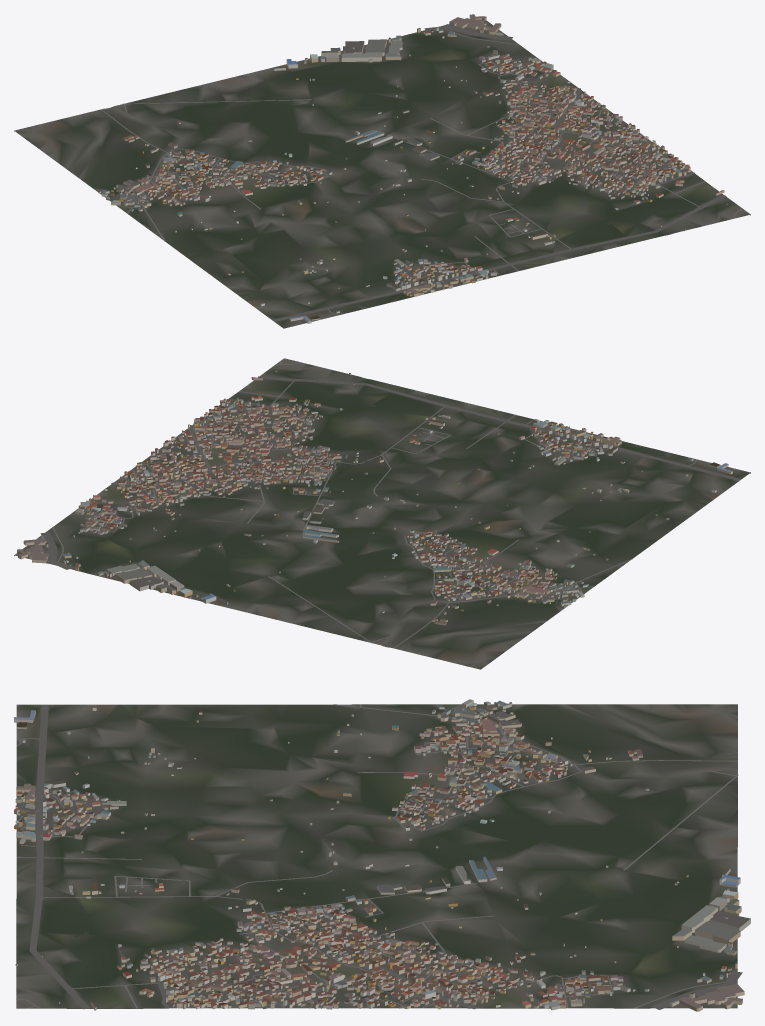
The picture shows the model from 3 angles, top to bottom: view 1: azimuth 30°, elevation 25°; view 2: azimuth 150°, elevation 25°; view 3: azimuth 270°, elevation 25°; orthographic projection. The views are drawn at different scales.
Visible parts, largest first — view 1: ground, buildings, roads; view 2: ground, buildings, roads; view 3: ground, buildings, roads.
Part boxes in pixels (x1,y1,x2,y2): ground: (14, 20, 750, 328); buildings: (98, 14, 727, 323); roads: (101, 24, 745, 321); ground: (14, 358, 750, 669); buildings: (17, 370, 732, 625); roads: (40, 361, 741, 648); ground: (16, 704, 737, 1008); buildings: (14, 699, 750, 1011); roads: (16, 704, 742, 1009).
Bounding box in the file's own units: 1425 × 16.52 × 1432.
